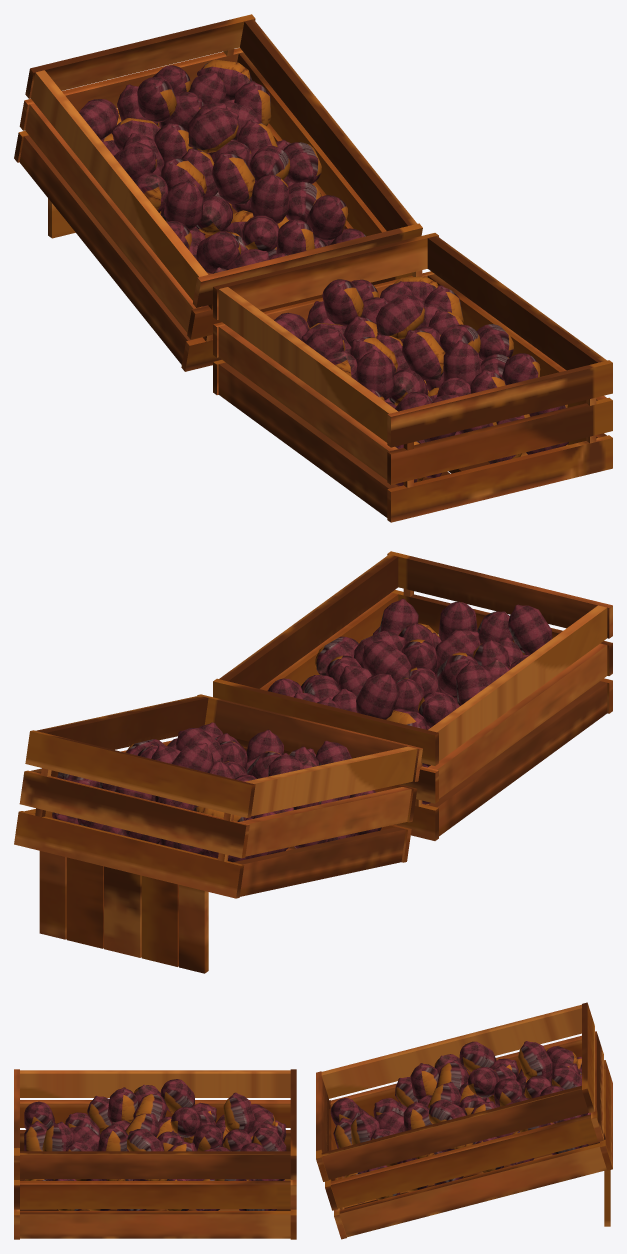
The model's file is fruit crate_7.fbx.
The picture shows the model from 3 angles, top to bottom: view 1: azimuth 30°, elevation 25°; view 2: azimuth 150°, elevation 25°; view 3: azimuth 270°, elevation 25°; orthographic projection. The views are drawn at different scales.
Visible parts, largest first — view 1: Cube.010, Cube.020, Plane.716, Plane.738, Plane.251, Plane.229, Plane.739, Plane.207, Plane.732, Plane.684, Plane.736, Plane.741 (+28 smaller); view 2: Cube.020, Cube.010, Cube.027, Plane.250, Plane.207, Plane.229, Plane.255, Plane.231, Plane.244, Plane.220, Plane.245, Plane.230 (+13 smaller); view 3: Cube.020, Cube.010, Plane.684, Plane.207, Plane.249, Plane.231, Plane.718, Plane.736, Plane.229, Plane.716, Plane.255, Plane.252 (+27 smaller).
Boxes of the visible parts, x1=… form: Cube.010: x1=213, y1=233, x2=612, y2=522; Cube.020: x1=14, y1=14, x2=422, y2=371; Plane.716: x1=188, y1=107, x2=238, y2=152; Plane.738: x1=211, y1=153, x2=254, y2=204; Plane.251: x1=401, y1=330, x2=445, y2=380; Plane.229: x1=375, y1=294, x2=424, y2=339; Plane.739: x1=250, y1=174, x2=289, y2=223; Plane.207: x1=322, y1=279, x2=363, y2=327; Plane.732: x1=306, y1=195, x2=348, y2=241; Plane.684: x1=137, y1=77, x2=176, y2=122; Plane.736: x1=163, y1=182, x2=203, y2=230; Plane.741: x1=196, y1=231, x2=241, y2=273; Cube.020: x1=14, y1=694, x2=422, y2=898; Cube.010: x1=213, y1=551, x2=612, y2=840; Cube.027: x1=39, y1=851, x2=208, y2=973; Plane.250: x1=508, y1=604, x2=552, y2=655; Plane.207: x1=356, y1=674, x2=399, y2=719; Plane.229: x1=362, y1=641, x2=411, y2=681; Plane.255: x1=438, y1=601, x2=477, y2=640; Plane.231: x1=456, y1=661, x2=492, y2=705; Plane.244: x1=435, y1=629, x2=480, y2=673; Plane.220: x1=418, y1=691, x2=459, y2=727; Plane.245: x1=378, y1=598, x2=418, y2=634; Plane.230: x1=437, y1=652, x2=478, y2=695; Cube.020: x1=316, y1=1002, x2=612, y2=1239; Cube.010: x1=14, y1=1069, x2=296, y2=1239; Plane.684: x1=518, y1=1041, x2=552, y2=1079; Plane.207: x1=223, y1=1092, x2=255, y2=1133; Plane.249: x1=107, y1=1087, x2=137, y2=1124; Plane.231: x1=160, y1=1079, x2=194, y2=1113; Plane.718: x1=459, y1=1041, x2=496, y2=1072; Plane.736: x1=410, y1=1063, x2=438, y2=1099; Plane.229: x1=170, y1=1106, x2=201, y2=1137; Plane.716: x1=468, y1=1067, x2=499, y2=1097; Plane.255: x1=42, y1=1121, x2=73, y2=1151; Plane.252: x1=97, y1=1124, x2=128, y2=1151.
Size of the model in its own units: 26.86 by 21.97 by 78.99.
